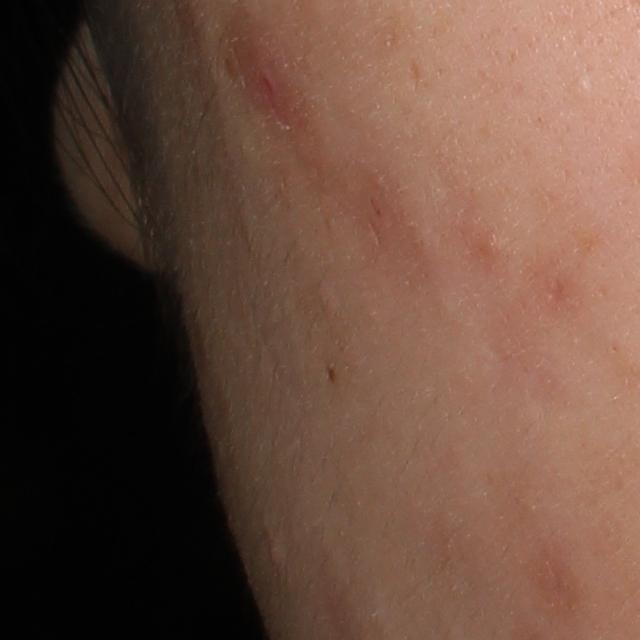comedo: (568, 74, 593, 103)
